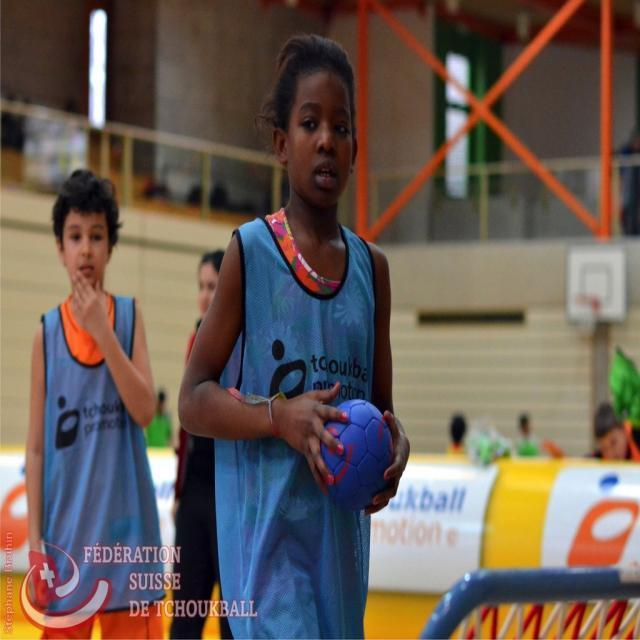football: (301, 382, 415, 509)
